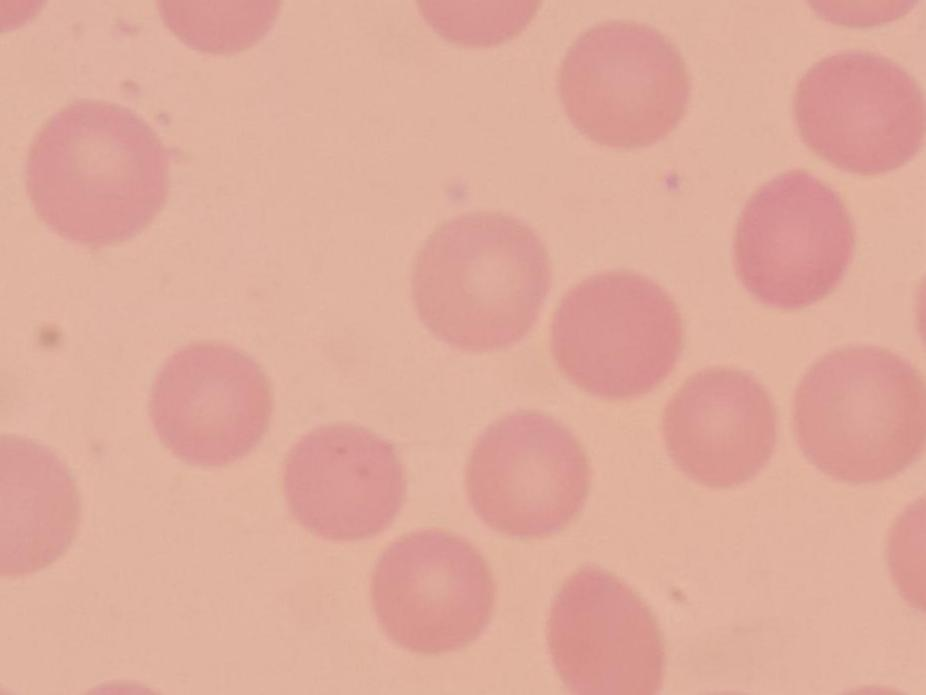Uninfected: (410, 212, 558, 351), (28, 99, 167, 246), (793, 342, 926, 484), (730, 171, 857, 309), (550, 269, 683, 400), (790, 49, 926, 175), (560, 19, 691, 148), (147, 342, 272, 469), (467, 412, 590, 535), (547, 566, 663, 695), (662, 366, 780, 491), (372, 531, 491, 654), (280, 424, 404, 538), (0, 436, 83, 582)
